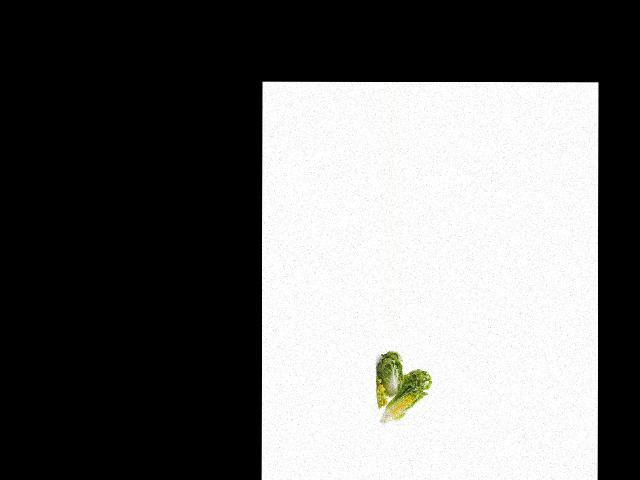lettuce: (374, 352, 404, 402)
